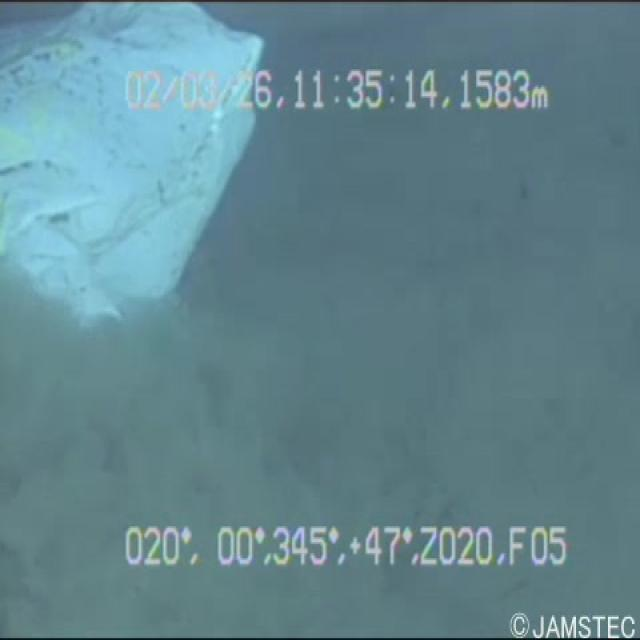plastic: (0, 0, 275, 347)
